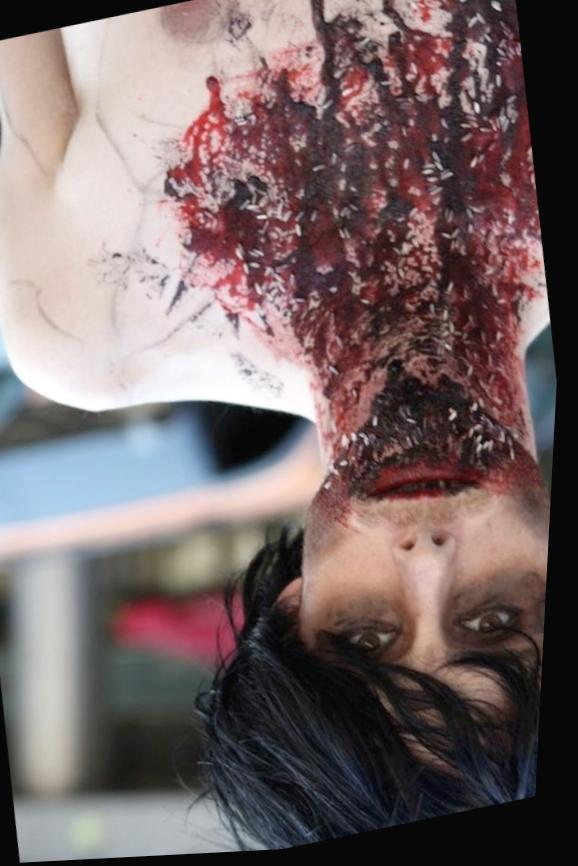Fire: (168, 0, 546, 514)
